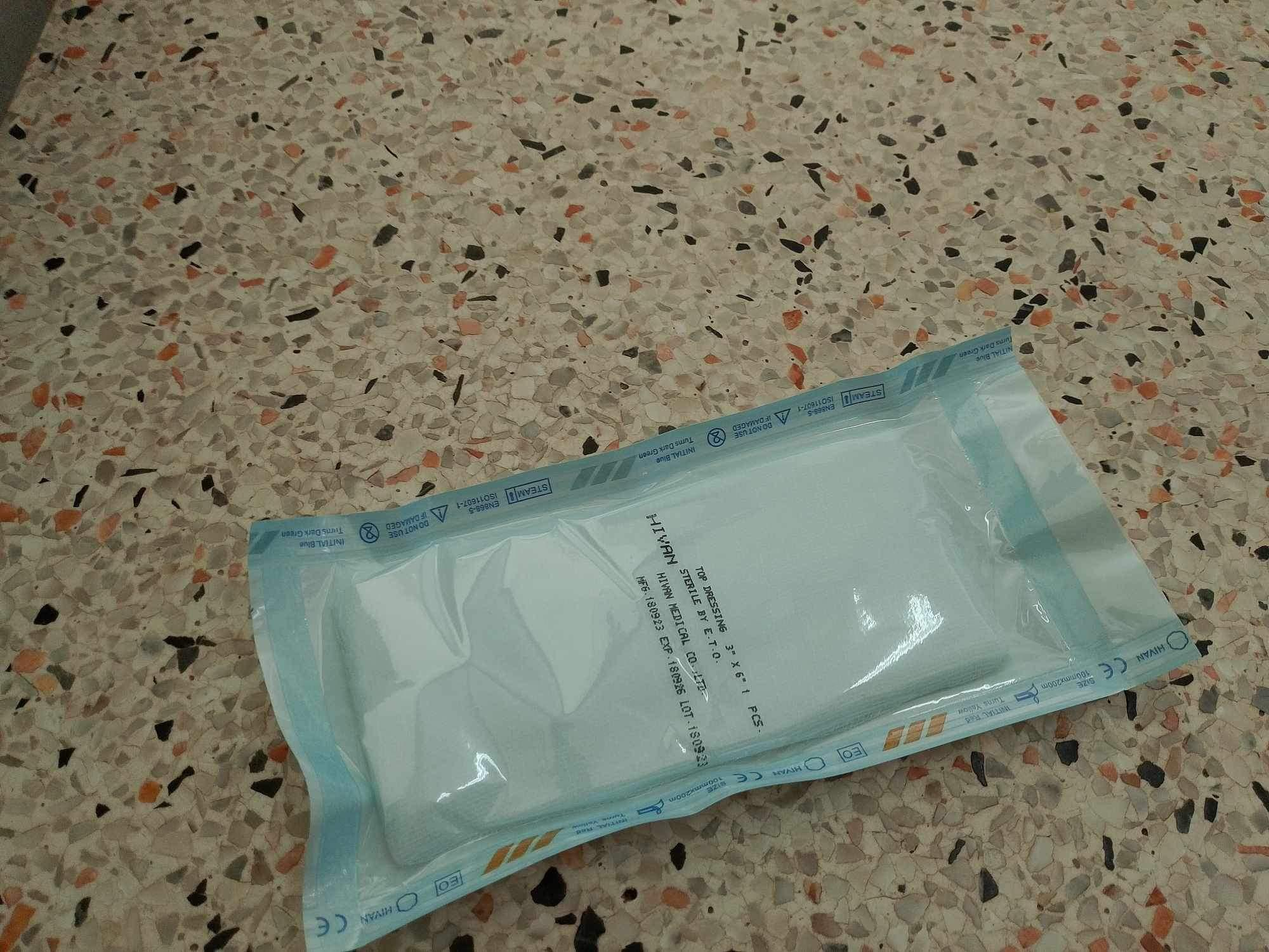Infectious: (245, 324, 1200, 949)
